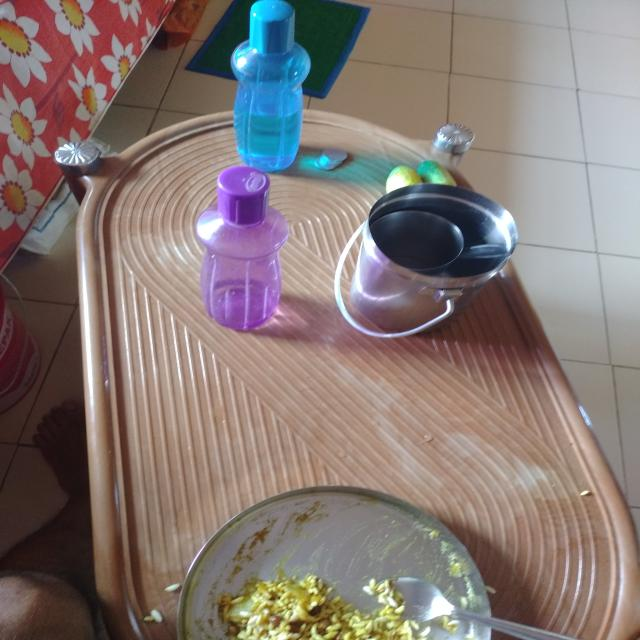bottle: (191, 168, 294, 332), (233, 2, 311, 173)
plate: (178, 485, 489, 640)
table: (74, 106, 629, 640)
